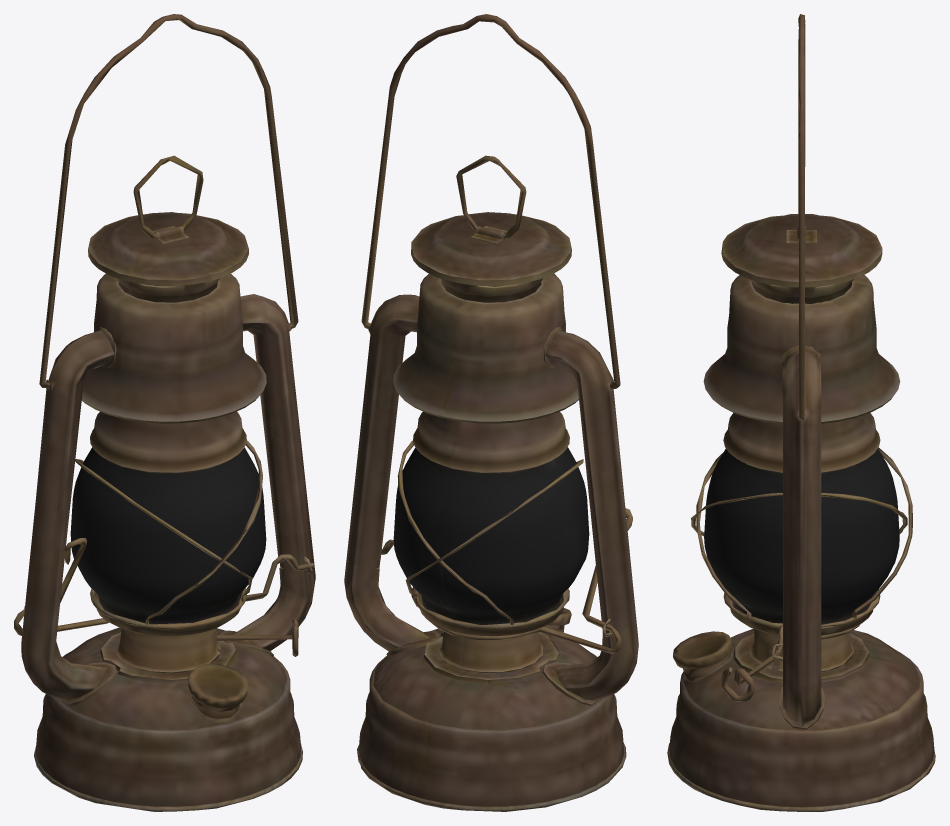
Rendered from hand-lantern.glb.
The picture shows the model from 3 angles, left to right: view 1: azimuth 30°, elevation 25°; view 2: azimuth 150°, elevation 25°; view 3: azimuth 270°, elevation 25°; orthographic projection.
Parts seen in each view (by area): view 1: Lantern_01, Lantern_01_glass; view 2: Lantern_01, Lantern_01_glass; view 3: Lantern_01, Lantern_01_glass.
Boxes of the visible parts, left/top/right/bottom form: Lantern_01: left=14, top=14, right=315, bottom=811; Lantern_01_glass: left=70, top=447, right=266, bottom=624; Lantern_01: left=344, top=14, right=638, bottom=811; Lantern_01_glass: left=393, top=447, right=589, bottom=625; Lantern_01: left=667, top=14, right=935, bottom=811; Lantern_01_glass: left=704, top=448, right=899, bottom=624.
Bounding box in the file's own units: 0.174 × 0.4196 × 0.138.
2 materials, 2 textured.
